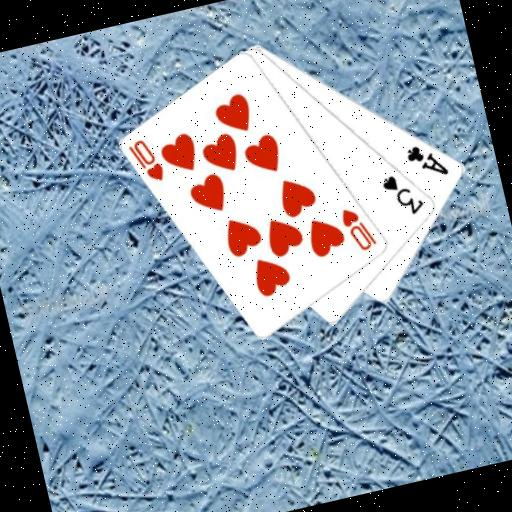10H: (337, 201, 381, 256), (125, 133, 169, 188)
3S: (378, 167, 428, 222)
AC: (401, 136, 452, 185)
